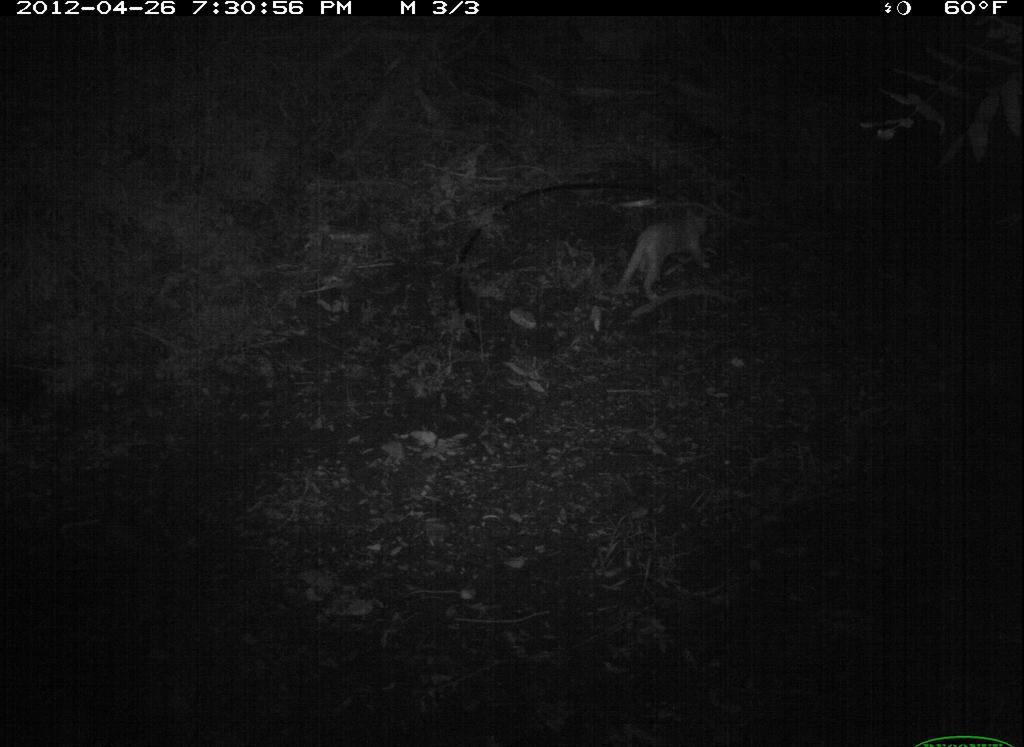cat: (612, 204, 717, 305)
